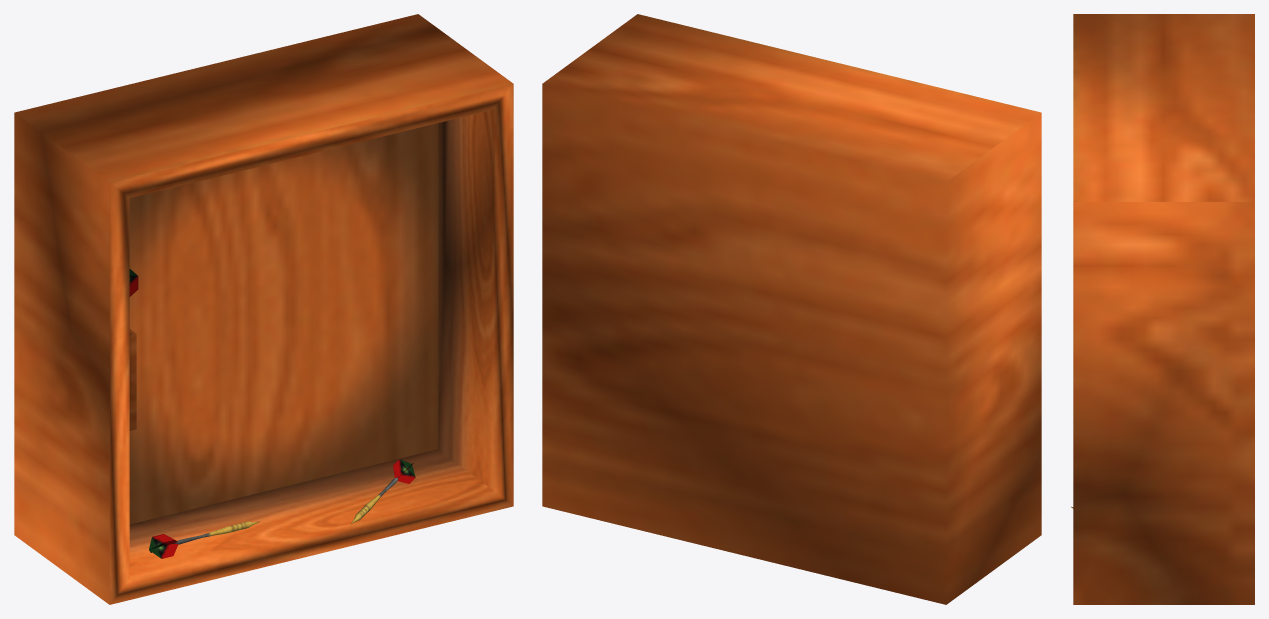
File: Cajademadera.fbx
3 views of the same model, side by side, from view 1: azimuth 30°, elevation 25°; view 2: azimuth 150°, elevation 25°; view 3: azimuth 270°, elevation 25° (orthographic). The views are drawn at different scales.
Visible parts, largest first — view 1: PropsDisplay; view 2: PropsDisplay; view 3: PropsDisplay.
Part boxes in pixels (x1,y1,x2,y2): PropsDisplay: [14, 14, 513, 604]; PropsDisplay: [542, 14, 1041, 604]; PropsDisplay: [1071, 14, 1254, 604].
Size of the model in its own units: 100 by 100 by 41.55.
Materials: 1 (1 with a texture image).
